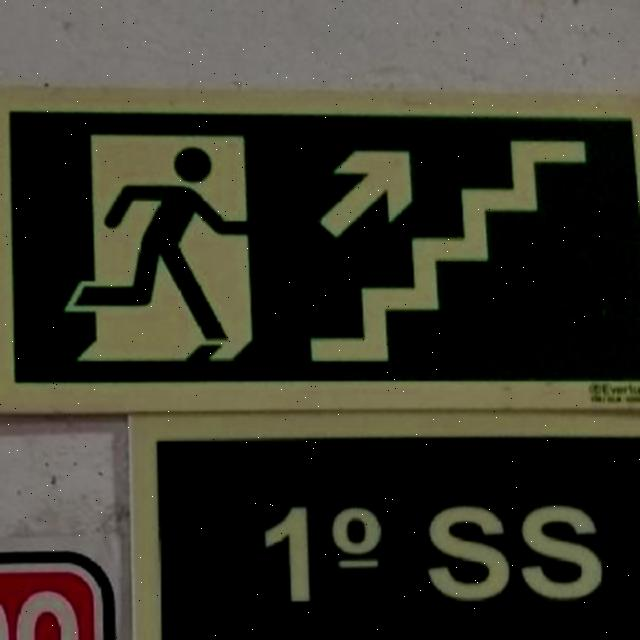emergency_exit: (1, 87, 639, 417), (137, 427, 638, 638)
